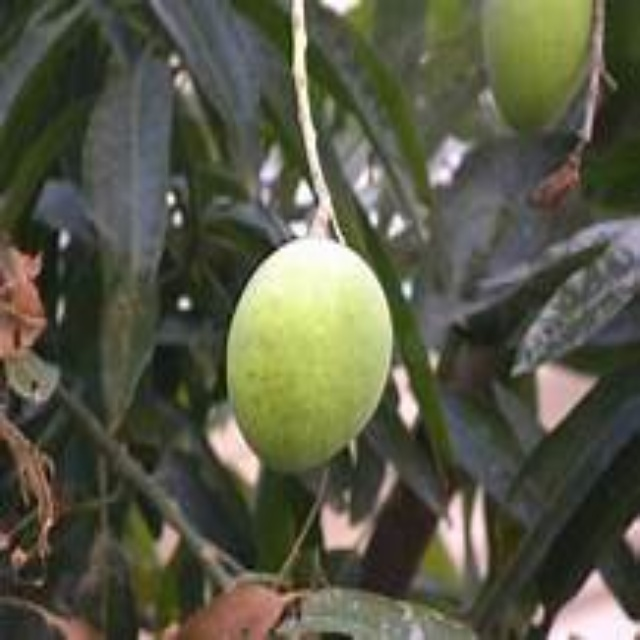mango: (238, 238, 395, 467), (471, 1, 600, 133)
